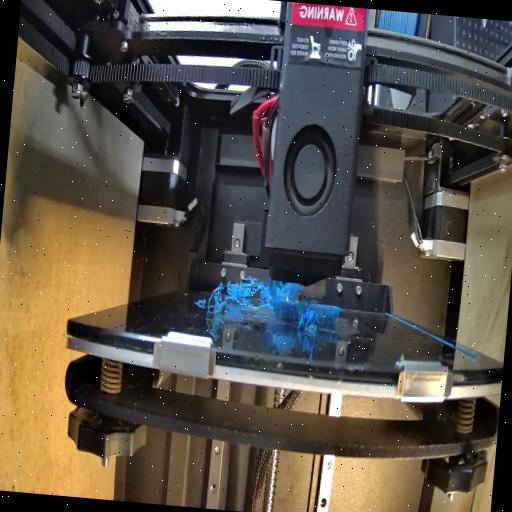spaghetti: (210, 274, 304, 320), (288, 294, 329, 340)
